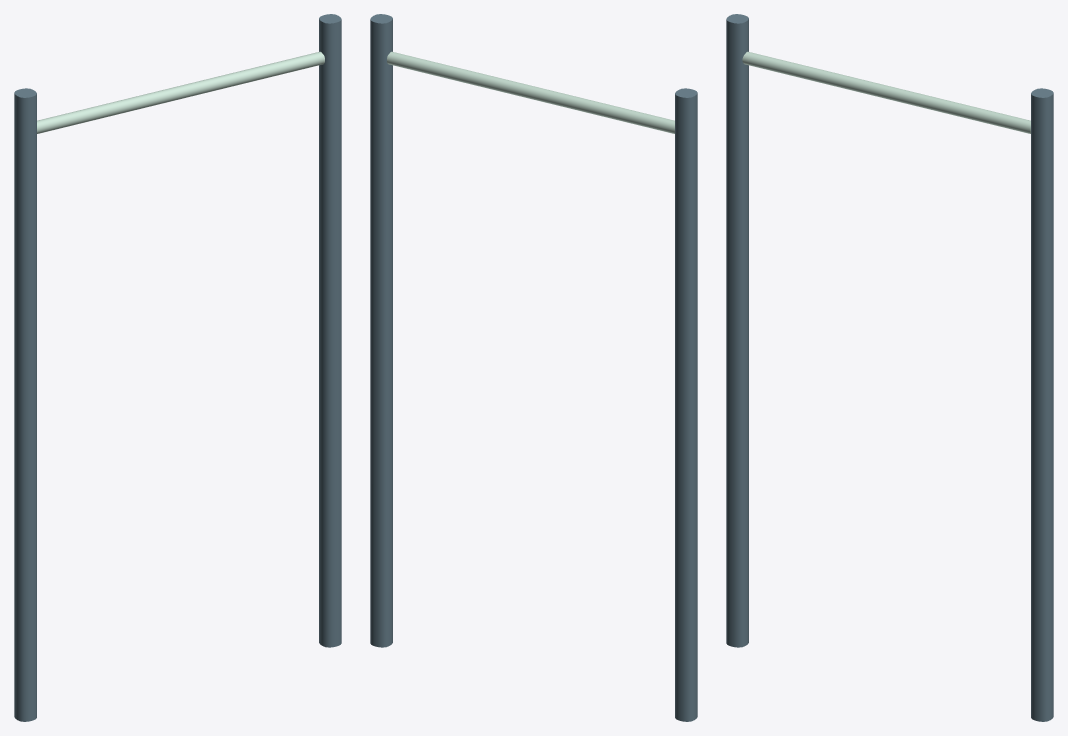
File: Pull up bar.fbx
3 renders of one model, left to right at view 1: azimuth 30°, elevation 25°; view 2: azimuth 150°, elevation 25°; view 3: azimuth 330°, elevation 25°, orthographic.
Visible parts, largest first — view 1: Cube.001, Cube, Cylinder.001; view 2: Cube.001, Cube, Cylinder.001; view 3: Cube, Cube.001, Cylinder.001.
Part boxes in pixels (x1=…): Cube.001: x1=14, y1=88, x2=36, y2=721; Cube: x1=319, y1=14, x2=341, y2=647; Cylinder.001: x1=37, y1=51, x2=324, y2=133; Cube.001: x1=675, y1=88, x2=697, y2=721; Cube: x1=370, y1=14, x2=392, y2=647; Cylinder.001: x1=387, y1=51, x2=674, y2=133; Cube: x1=1031, y1=88, x2=1053, y2=721; Cube.001: x1=726, y1=14, x2=748, y2=647; Cylinder.001: x1=742, y1=51, x2=1030, y2=133.
Size of the model in its own units: 233 by 430 by 13.3.
